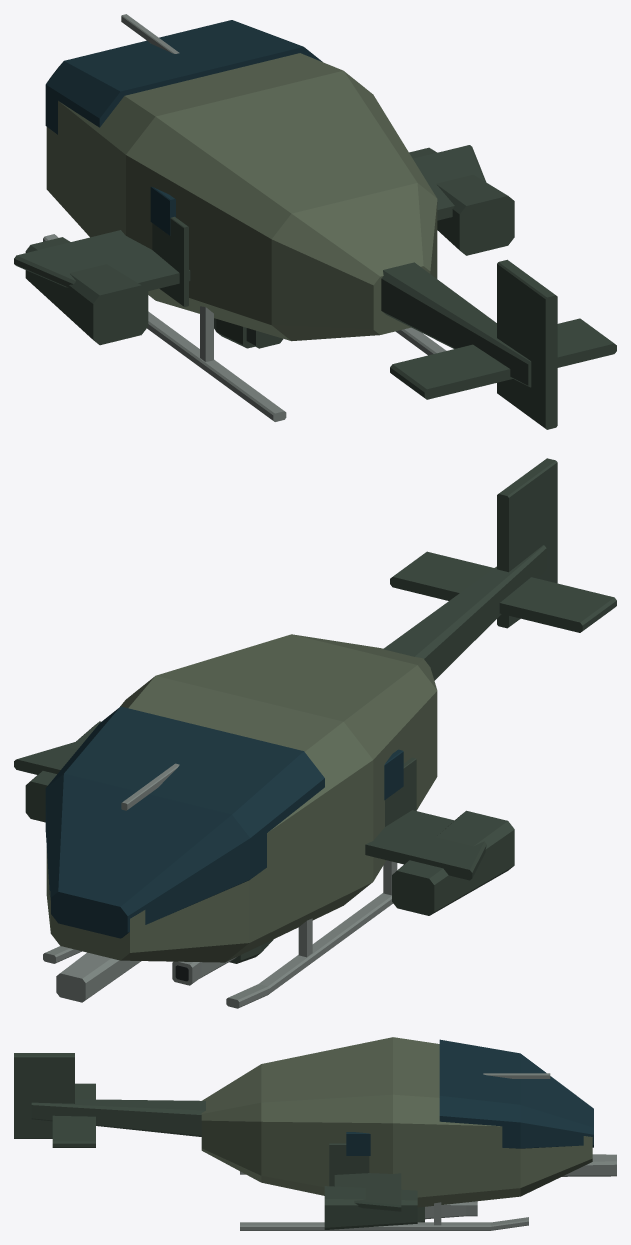
Rendered from vehicle-4-T_elDiaz.glb.
3 renders of one model, top to bottom at view 1: azimuth 30°, elevation 25°; view 2: azimuth 150°, elevation 25°; view 3: azimuth 270°, elevation 25°, orthographic. The views are drawn at different scales.
Visible parts, largest first — view 1: salient_vehicle_body_4, salient_vehicle_elevation_4; view 2: salient_vehicle_body_4, salient_vehicle_elevation_4; view 3: salient_vehicle_body_4, salient_vehicle_elevation_4.
Part boxes in pixels (x1=…): salient_vehicle_body_4: x1=14, y1=14, x2=616, y2=429; salient_vehicle_elevation_4: x1=214, y1=318, x2=254, y2=348; salient_vehicle_body_4: x1=14, y1=458, x2=616, y2=1008; salient_vehicle_elevation_4: x1=172, y1=939, x2=273, y2=985; salient_vehicle_body_4: x1=14, y1=1037, x2=616, y2=1230; salient_vehicle_elevation_4: x1=417, y1=1201, x2=477, y2=1222.
Bounding box in the file's own units: 5 × 2.76 × 9.08.
